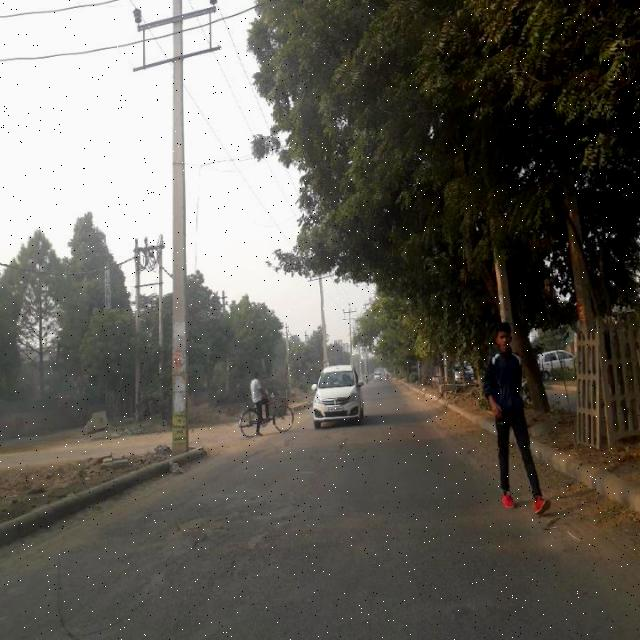D40: (172, 501, 246, 562)
